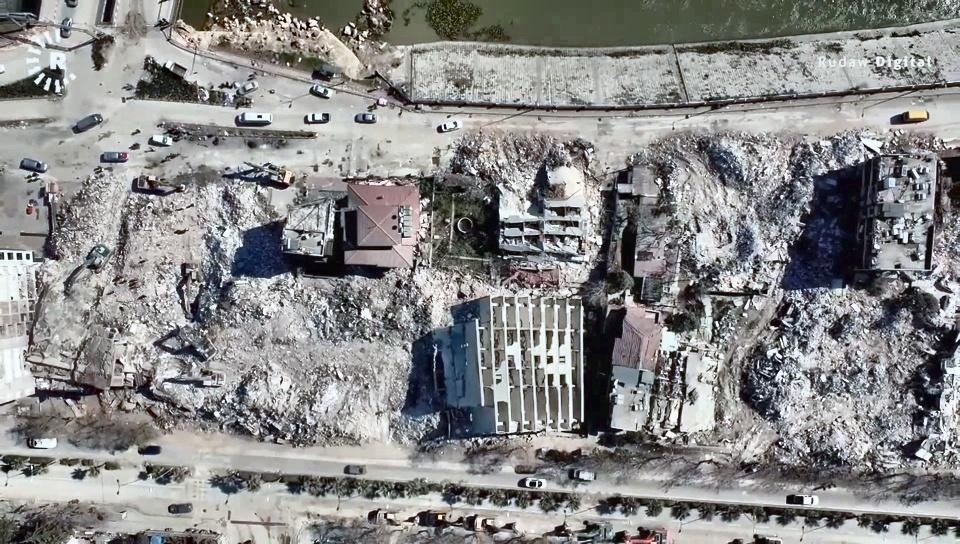kapali: (612, 93, 957, 178), (425, 113, 604, 179)
